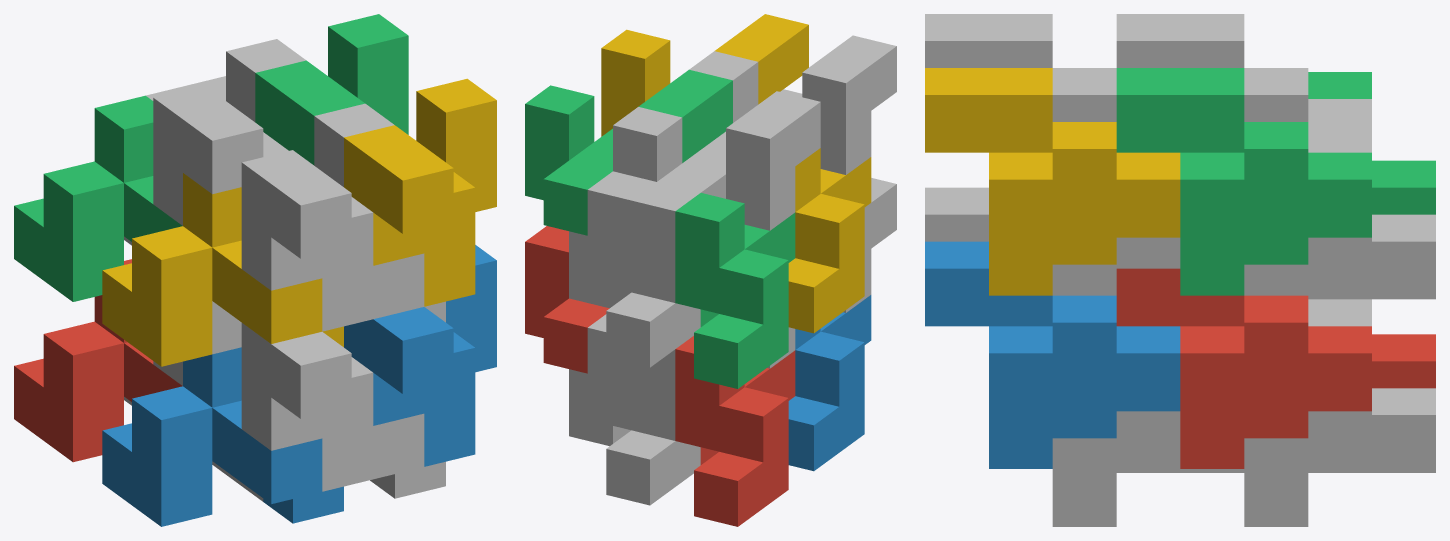
The model's file is tiling.obj.
The picture shows the model from 3 angles, left to right: view 1: azimuth 30°, elevation 25°; view 2: azimuth 150°, elevation 25°; view 3: azimuth 270°, elevation 25°; orthographic projection. The views are drawn at different scales.
Parts seen in each view (by area): view 1: copy_1_domain_2, copy_2_domain_8, copy_1_domain_4, copy_2_domain_4, copy_1_domain_3, copy_2_domain_6, copy_2_domain_2, copy_1_domain_1, copy_2_domain_3, copy_2_domain_7, copy_1_domain_6, copy_1_domain_8 (+1 smaller); view 2: copy_2_domain_3, copy_1_domain_3, copy_1_domain_1, copy_1_domain_7, copy_2_domain_7, copy_1_domain_5, copy_1_domain_4, copy_2_domain_4, copy_1_domain_2, copy_2_domain_8, copy_2_domain_5, copy_2_domain_2 (+1 smaller); view 3: copy_2_domain_7, copy_2_domain_8, copy_2_domain_6, copy_2_domain_5, copy_1_domain_5, copy_1_domain_7, copy_2_domain_3, copy_2_domain_4, copy_1_domain_6, copy_1_domain_3, copy_1_domain_8, copy_1_domain_1 (+1 smaller).
Boxes of the visible parts, x1,y1,x2,y2 form: copy_1_domain_2: (102,347,343,526); copy_2_domain_8: (344,78,496,306); copy_1_domain_4: (102,173,343,366); copy_2_domain_4: (241,103,394,331); copy_1_domain_3: (14,95,182,301); copy_2_domain_6: (344,245,496,466); copy_2_domain_2: (241,323,373,491); copy_1_domain_1: (14,259,182,462); copy_2_domain_3: (146,39,305,225); copy_2_domain_7: (255,14,408,165); copy_1_domain_6: (212,413,445,501); copy_1_domain_8: (373,253,445,322); copy_2_domain_3: (613,91,820,256); copy_1_domain_3: (675,193,795,388); copy_1_domain_1: (675,336,795,526); copy_1_domain_7: (569,171,700,367); copy_2_domain_7: (525,69,732,235); copy_1_domain_5: (569,314,700,505); copy_1_domain_4: (788,148,871,333); copy_2_domain_4: (689,35,896,174); copy_1_domain_2: (788,295,871,471); copy_2_domain_8: (601,14,808,136); copy_2_domain_5: (525,226,609,373); copy_2_domain_2: (843,178,896,312); copy_2_domain_7: (1116,68,1371,295); copy_2_domain_8: (925,68,1180,295); copy_2_domain_6: (925,241,1180,468); copy_2_domain_5: (1116,268,1371,468); copy_1_domain_5: (1244,299,1435,526); copy_1_domain_7: (1244,126,1435,299); copy_2_domain_3: (1116,14,1371,125); copy_2_domain_4: (925,14,1116,121); copy_1_domain_6: (1052,411,1244,526); copy_1_domain_3: (1308,72,1435,214); copy_1_domain_8: (1052,237,1180,295); copy_1_domain_1: (1372,334,1435,388).
Bounding box in the file's own units: 6 × 7 × 8.
